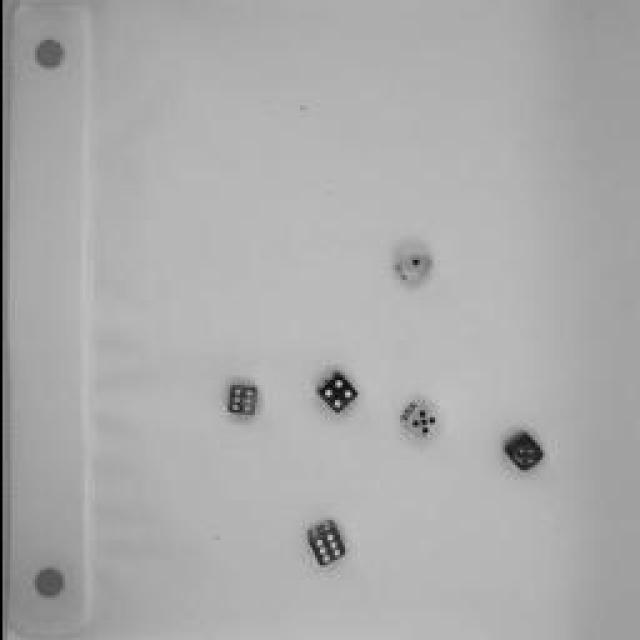dice_1: (385, 242, 430, 288)
dice_4: (309, 369, 356, 416)
dice_5: (495, 420, 550, 478), (395, 396, 445, 444)
dice_6: (294, 518, 351, 572), (218, 385, 258, 420)
